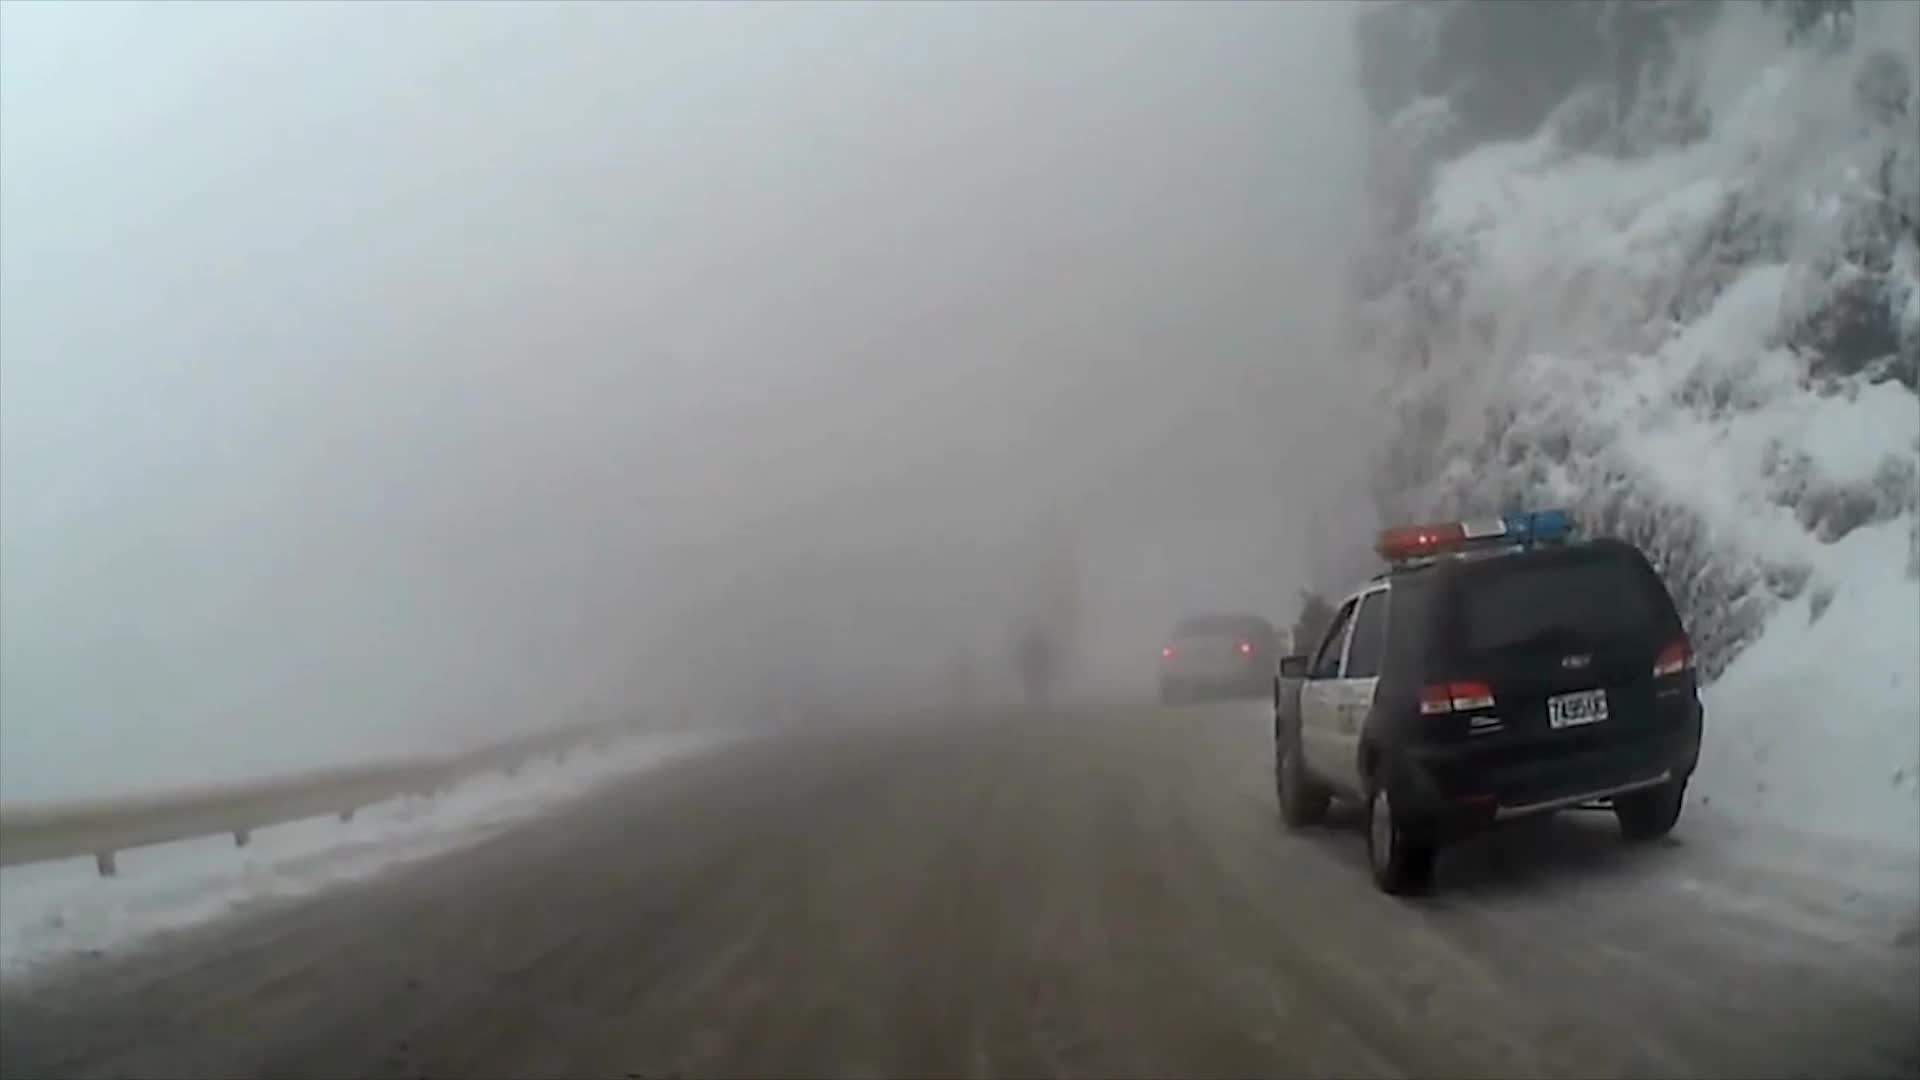vehicle: (1270, 509, 1705, 895), (1158, 611, 1288, 705)
